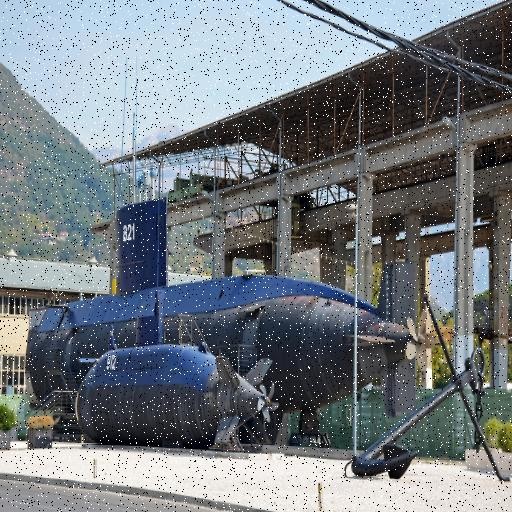submarine: (21, 185, 433, 429), (63, 344, 271, 450)
